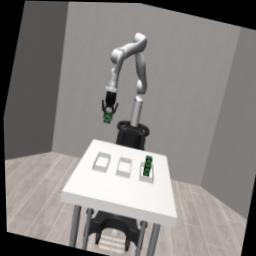cube1: (103, 110, 112, 123)
cube2: (143, 154, 152, 167)
cube3: (141, 164, 149, 176)
